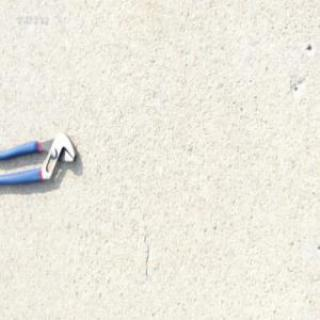Pliertrack_idkeyframe: (0, 130, 76, 187)
